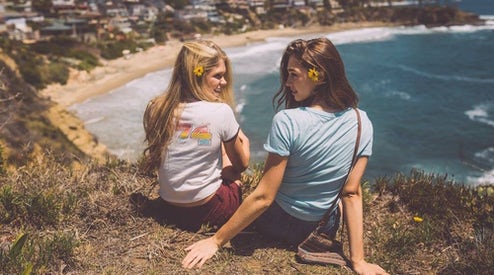Person: (255, 41, 383, 275), (143, 41, 247, 226)
